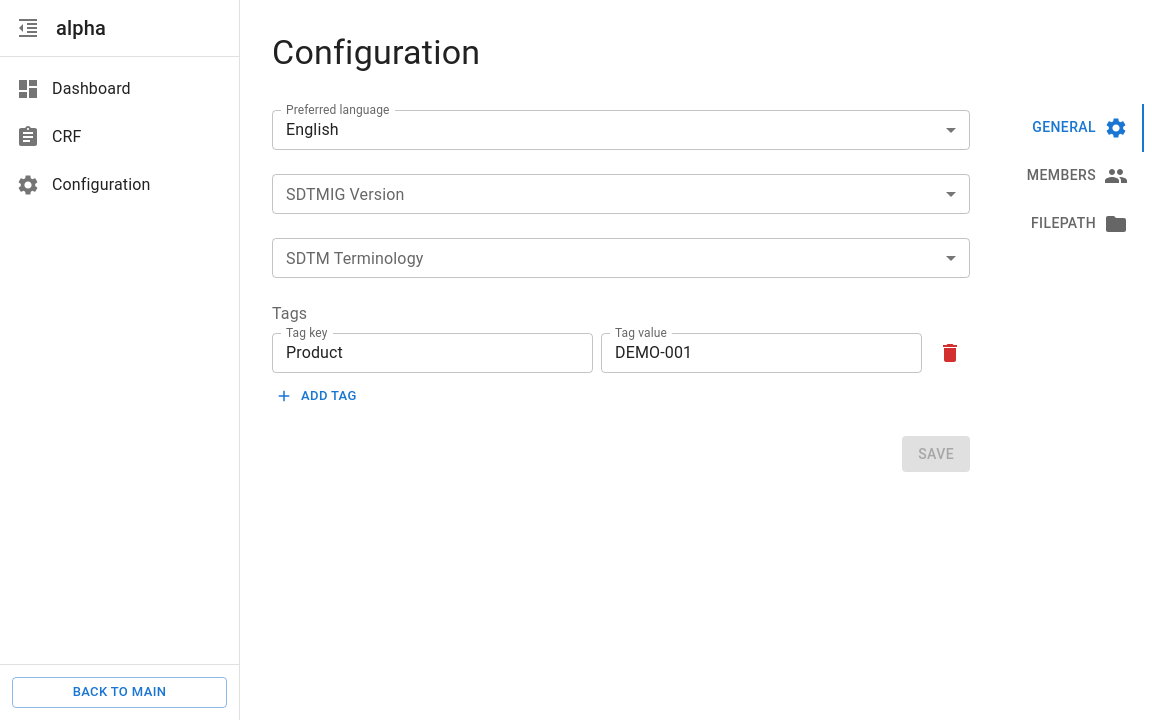
Test case: ProjectConfigurationPage — leader view › clicking the Members sidebar item shows the Members section
Click the tab with test id "config-section-members". click: {"x": 1077, "y": 176}
box: [1010,152,1144,200]
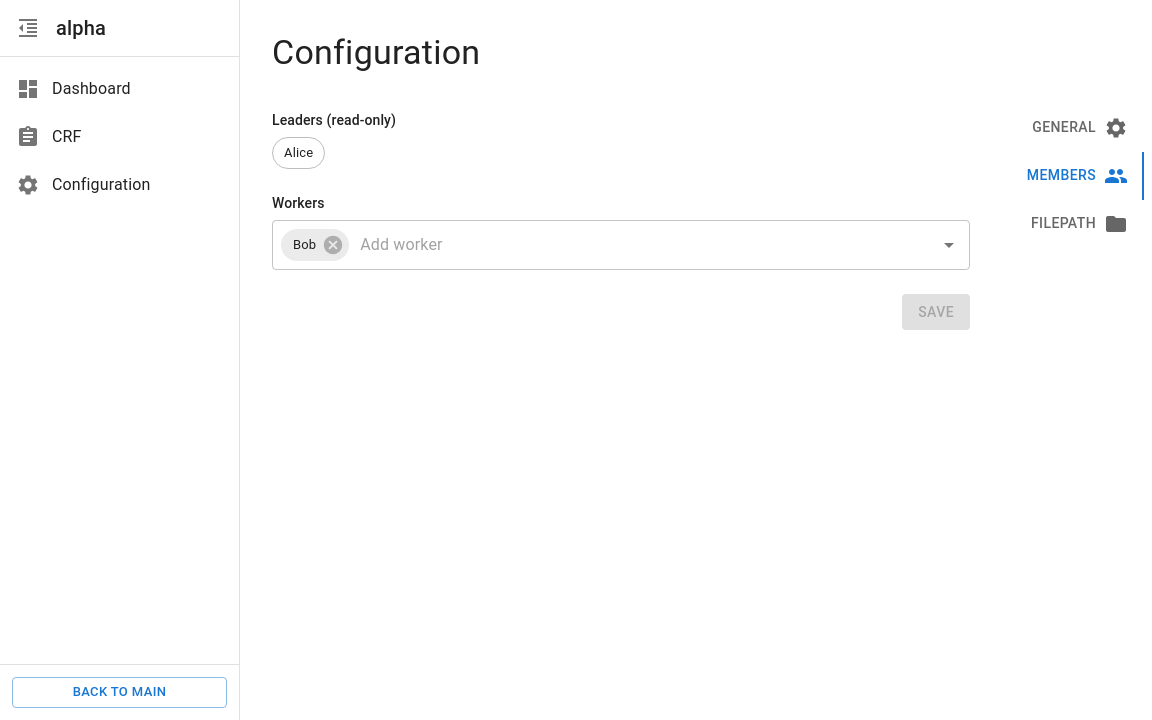
Now the element with test id "config-leaders" is shown, box [272,137,325,169]
Now the element with test id "config-workers" is shown, box [272,220,970,270]
